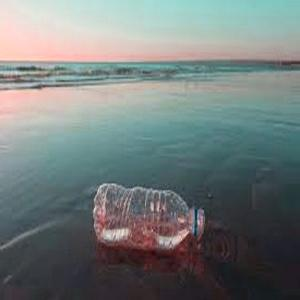Plastic: (92, 182, 205, 251)
